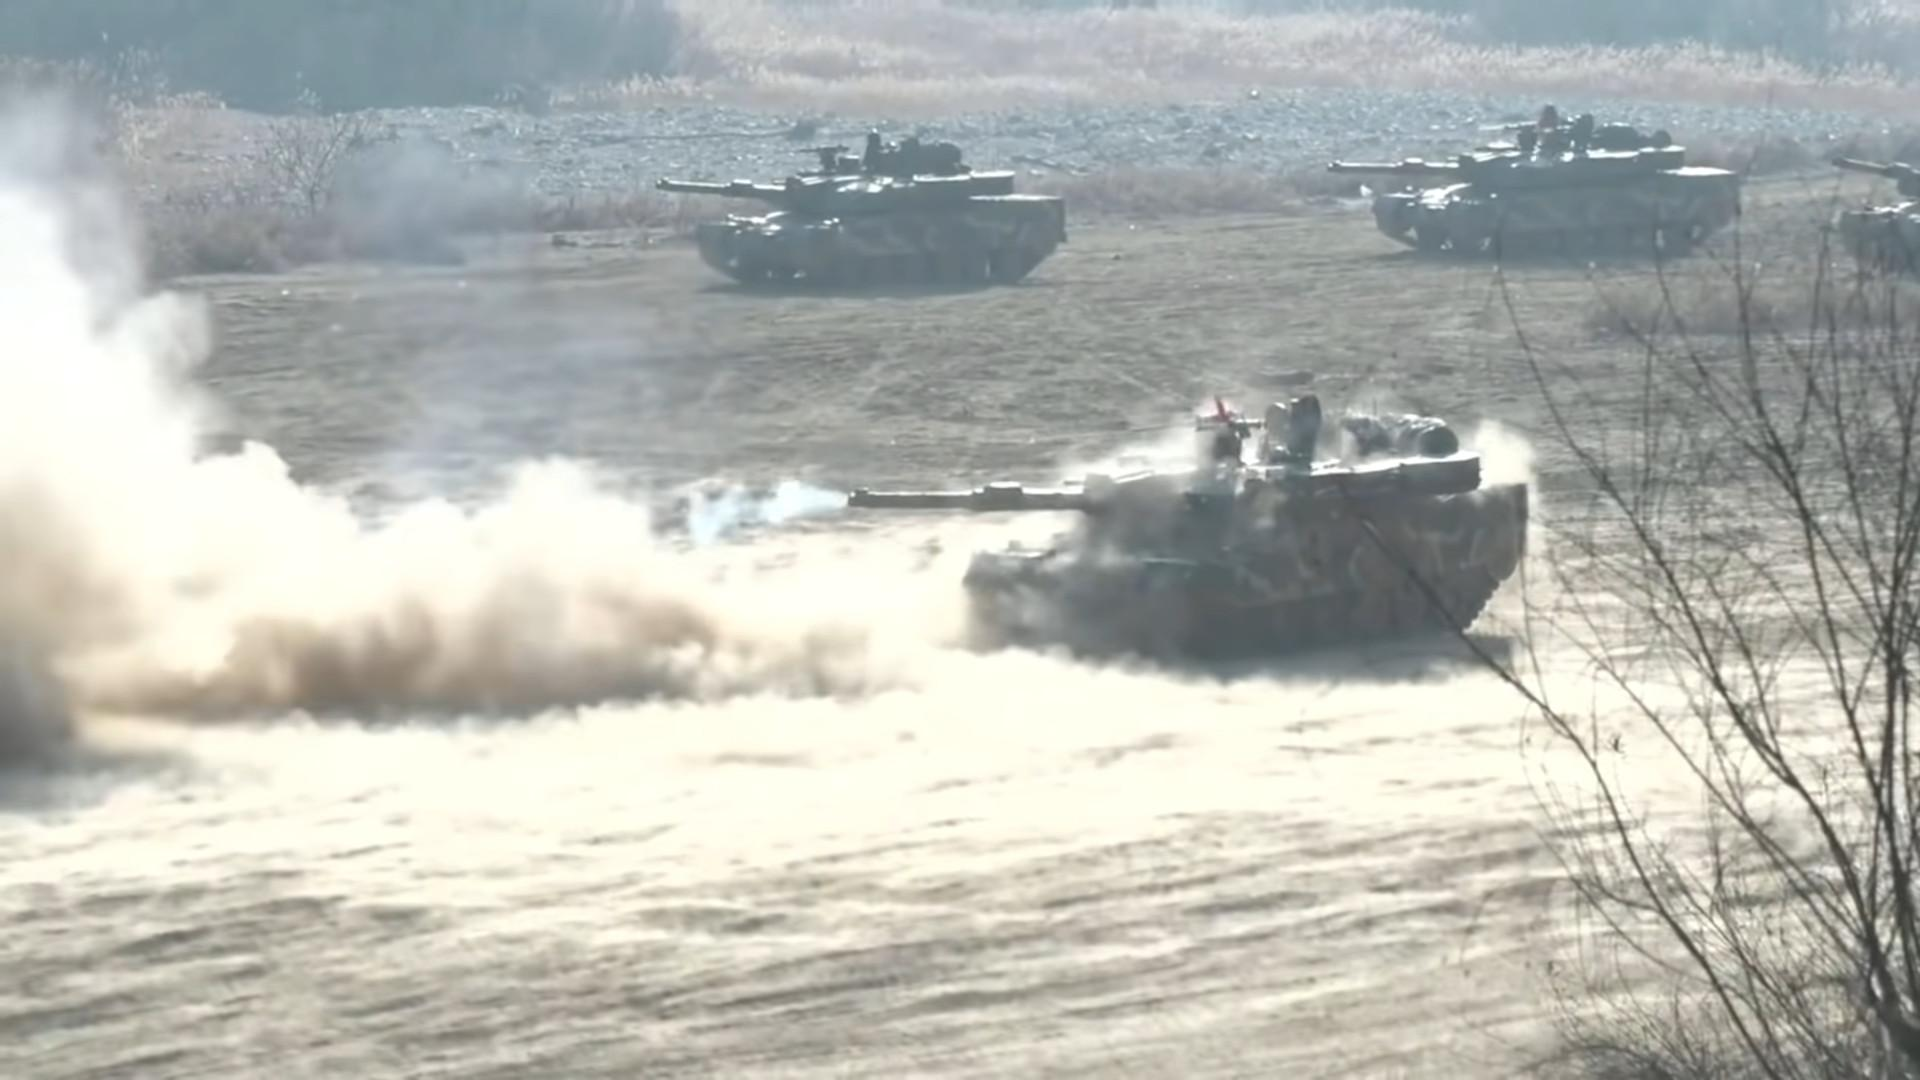tank: (851, 396, 1524, 670), (1327, 102, 1739, 260), (657, 133, 1067, 285)
